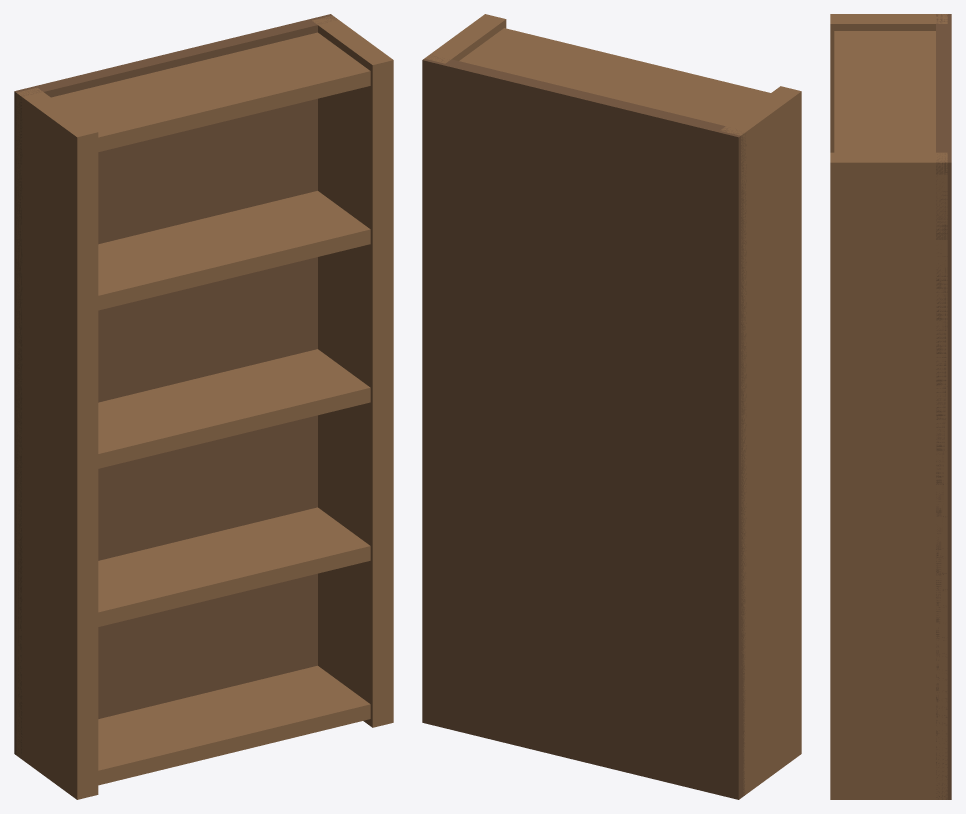
The model's file is bookshelf.glb.
3 views of the same model, side by side, from view 1: azimuth 30°, elevation 25°; view 2: azimuth 150°, elevation 25°; view 3: azimuth 270°, elevation 25° (orthographic). The views are drawn at different scales.
Parts seen in each view (by area): view 1: furniture; view 2: furniture; view 3: furniture.
Boxes of the visible parts, left/top/right/bottom form: furniture: left=14, top=14, right=393, bottom=799; furniture: left=422, top=14, right=801, bottom=799; furniture: left=830, top=14, right=951, bottom=799.
Size of the model in its own units: 0.9 by 1.8 by 0.31.
